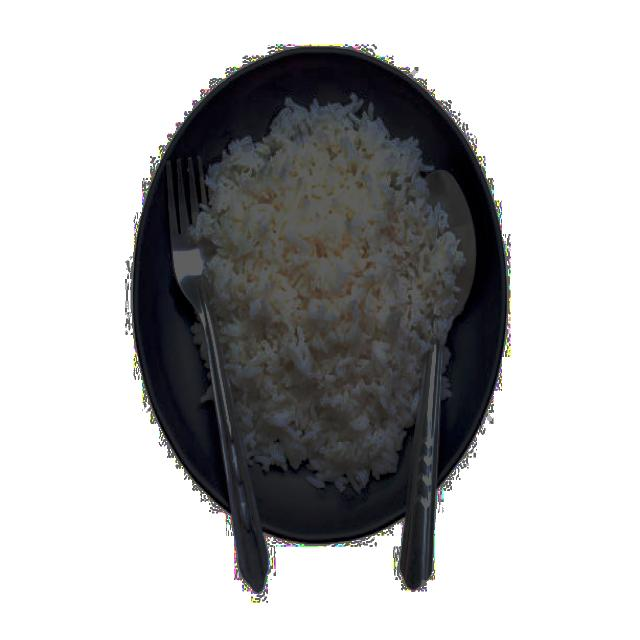rice: (185, 94, 465, 492)
